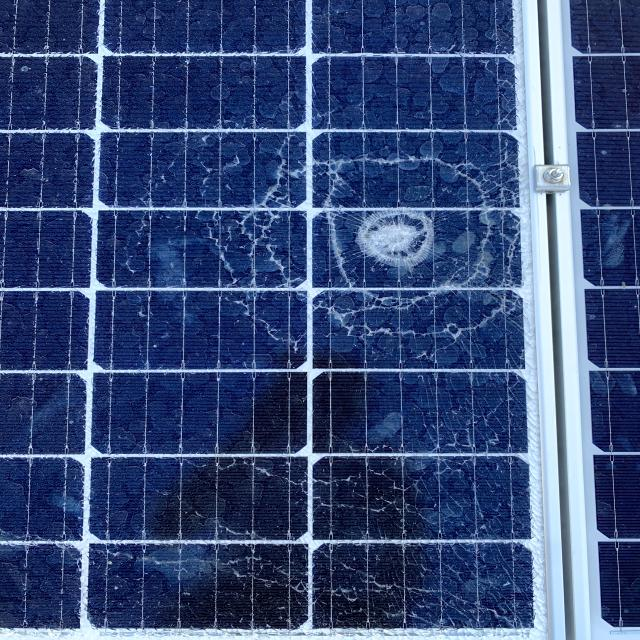hotspot: (293, 172, 467, 296)
